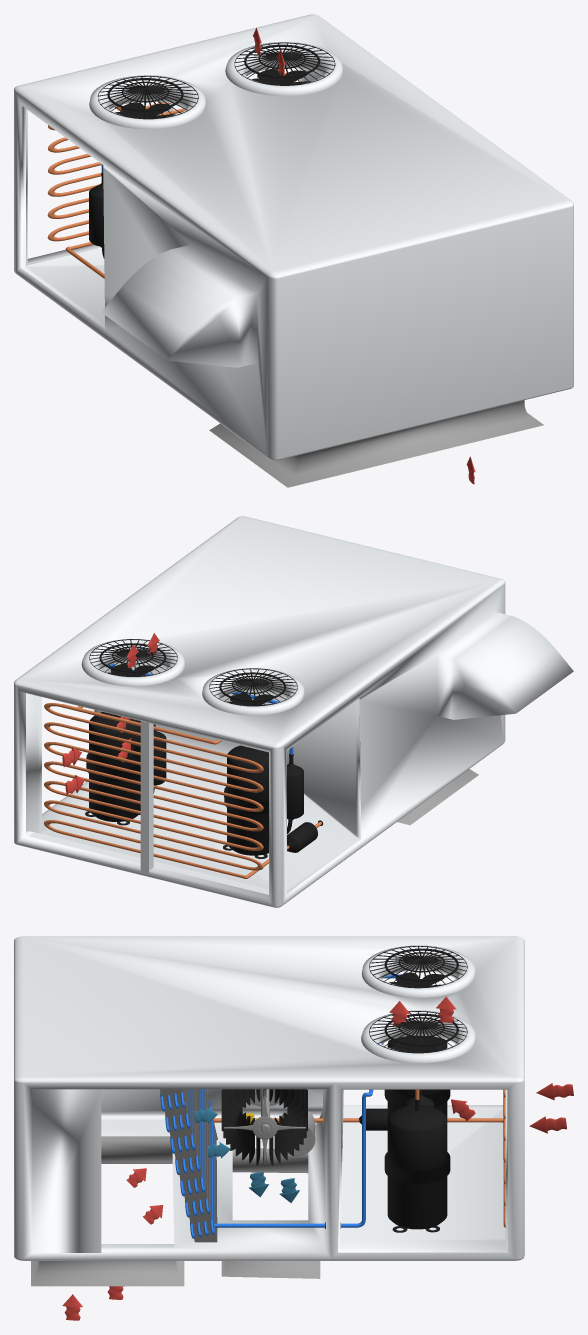
File: splitão.glb
3 renders of one model, top to bottom at view 1: azimuth 30°, elevation 25°; view 2: azimuth 150°, elevation 25°; view 3: azimuth 270°, elevation 25°, orthographic. The views are drawn at different scales.
Parts seen in each view (by area): view 1: Cubo, Toróide.006, Toróide.002, Círculo.001, Círculo, BézierCurve.010, Cilindro.PQ.002; view 2: Cubo, BézierCurve.010, CilindroGD.001, CilindroGD.002, Toróide.006, Toróide.002, Cubo.003, Círculo.001, Círculo, Cilindro.PQ.002, Cilindro.PQ.003, BézierCurve.013 (+1 smaller); view 3: Cubo, CilindroGD.001, Cubo.015, Ventilador_Evap, Toróide.002, Toróide.006, Círculo.001, Círculo, BézierCurve.018, CilindroGD.002, BézierCurve.019, Cilindro.PQ.003 (+1 smaller).
Boxes of the visible parts, left/top/right/bottom form: Cubo: left=14, top=14, right=573, bottom=487; Toróide.006: left=89, top=75, right=206, bottom=129; Toróide.002: left=225, top=42, right=343, bottom=96; Círculo.001: left=97, top=76, right=198, bottom=119; Círculo: left=234, top=42, right=335, bottom=85; BézierCurve.010: left=47, top=69, right=286, bottom=249; Cilindro.PQ.002: left=89, top=183, right=104, bottom=248; Cubo: left=14, top=516, right=573, bottom=907; BézierCurve.010: left=44, top=703, right=263, bottom=878; CilindroGD.001: left=86, top=712, right=140, bottom=821; CilindroGD.002: left=224, top=745, right=268, bottom=855; Toróide.006: left=202, top=668, right=304, bottom=715; Toróide.002: left=81, top=639, right=185, bottom=686; Cubo.003: left=140, top=720, right=153, bottom=874; Círculo.001: left=209, top=668, right=297, bottom=706; Círculo: left=89, top=639, right=177, bottom=676; Cilindro.PQ.002: left=287, top=763, right=303, bottom=820; Cilindro.PQ.003: left=287, top=822, right=317, bottom=852; BézierCurve.013: left=61, top=704, right=219, bottom=744; Cubo: left=14, top=936, right=524, bottom=1286; CilindroGD.001: left=384, top=1105, right=450, bottom=1229; Cubo.015: left=160, top=1089, right=217, bottom=1242; Ventilador_Evap: left=221, top=1089, right=307, bottom=1165; Toróide.002: left=361, top=1010, right=476, bottom=1063; Toróide.006: left=361, top=945, right=475, bottom=997; Círculo.001: left=369, top=946, right=467, bottom=988; Círculo: left=369, top=1011, right=467, bottom=1053; BézierCurve.018: left=180, top=1089, right=215, bottom=1234; CilindroGD.002: left=384, top=1035, right=450, bottom=1117; BézierCurve.019: left=214, top=1089, right=373, bottom=1227; Cilindro.PQ.003: left=359, top=1108, right=387, bottom=1130.
Bounding box in the file's own units: 4.41 × 3.41 × 5.55.
